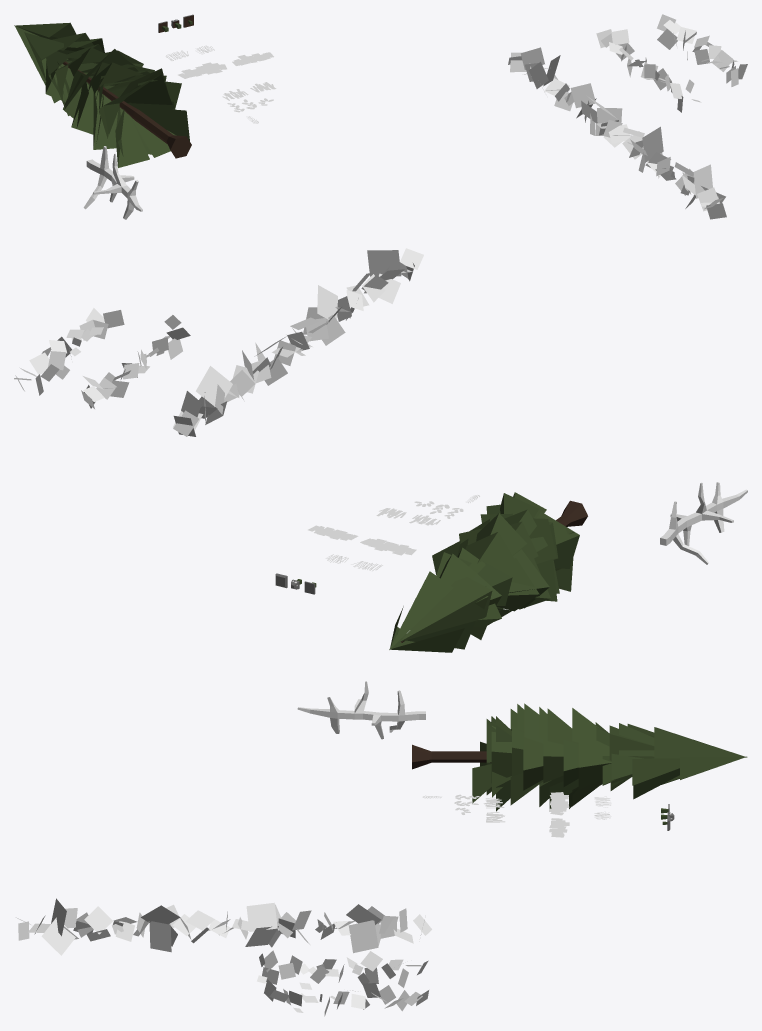
Rendered from Extra Plants.fbx.
3 views of the same model, one above another, from view 1: azimuth 30°, elevation 25°; view 2: azimuth 150°, elevation 25°; view 3: azimuth 270°, elevation 25° (orthographic). The views are drawn at different scales.
Visible parts, largest first — view 1: Fir Tree, Long Ivy, Short Ivy 2, Short Ivy 1, Root, Thick Grass 1; view 2: Fir Tree, Long Ivy, Short Ivy 2, Short Ivy 1, Root; view 3: Fir Tree, Long Ivy, Short Ivy 1, Short Ivy 2, Root.
Boxes of the visible parts, x1,y1,x2,y2 form: Fir Tree: (14,22,191,167); Long Ivy: (508,47,726,219); Short Ivy 2: (657,14,747,86); Short Ivy 1: (596,29,701,112); Root: (83,146,142,219); Thick Grass 1: (178,62,226,78); Fir Tree: (389,492,587,652); Long Ivy: (173,248,423,436); Short Ivy 2: (14,308,124,395); Short Ivy 1: (81,315,190,408); Root: (660,482,747,564); Fir Tree: (412,703,747,811); Long Ivy: (15,898,431,955); Short Ivy 1: (257,950,428,987); Short Ivy 2: (264,979,428,1016); Root: (297,681,425,739).
Size of the model in its own units: 6626 by 993 by 6721.
